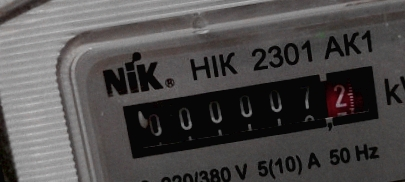0: (204, 97, 226, 126), (175, 103, 196, 133), (144, 109, 165, 138), (265, 85, 285, 115), (236, 90, 254, 119)
2: (330, 80, 350, 111)
7: (295, 82, 315, 113)
screen: (113, 55, 393, 165)
